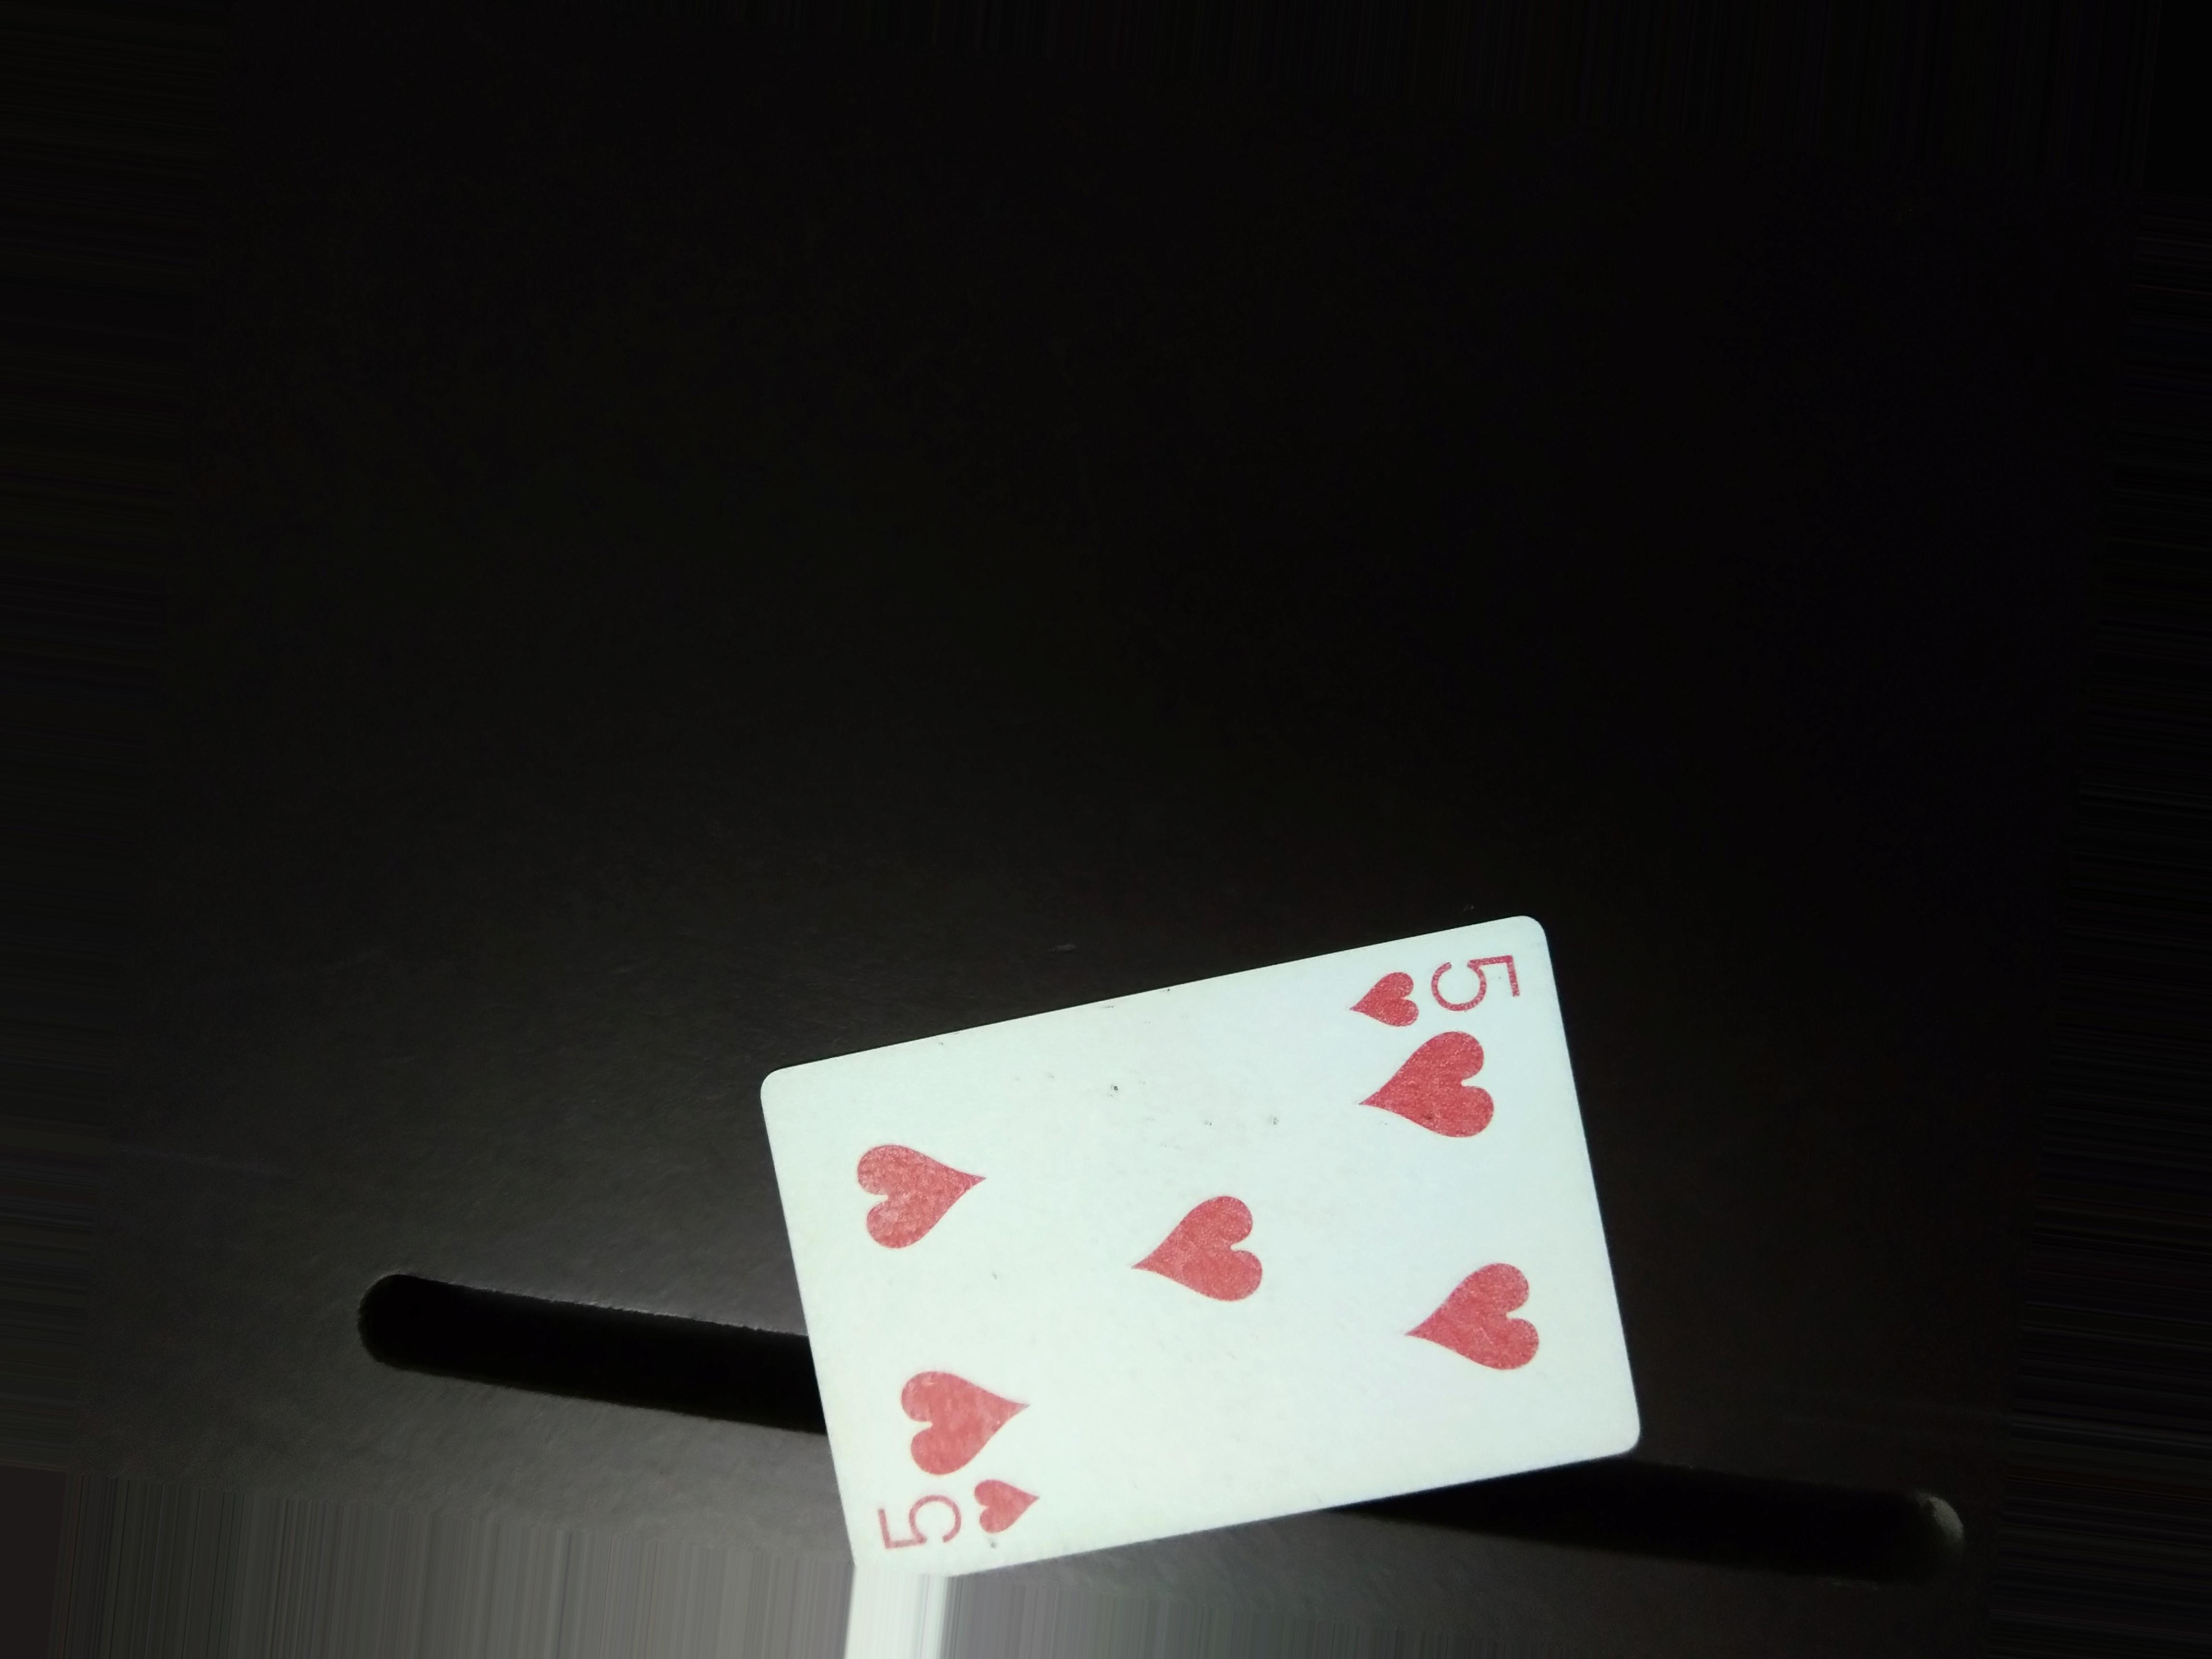5H: (855, 1476, 1047, 1554)
